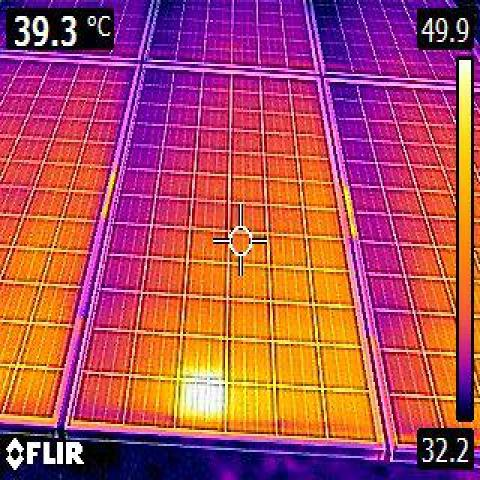fault: (182, 378, 222, 420)
